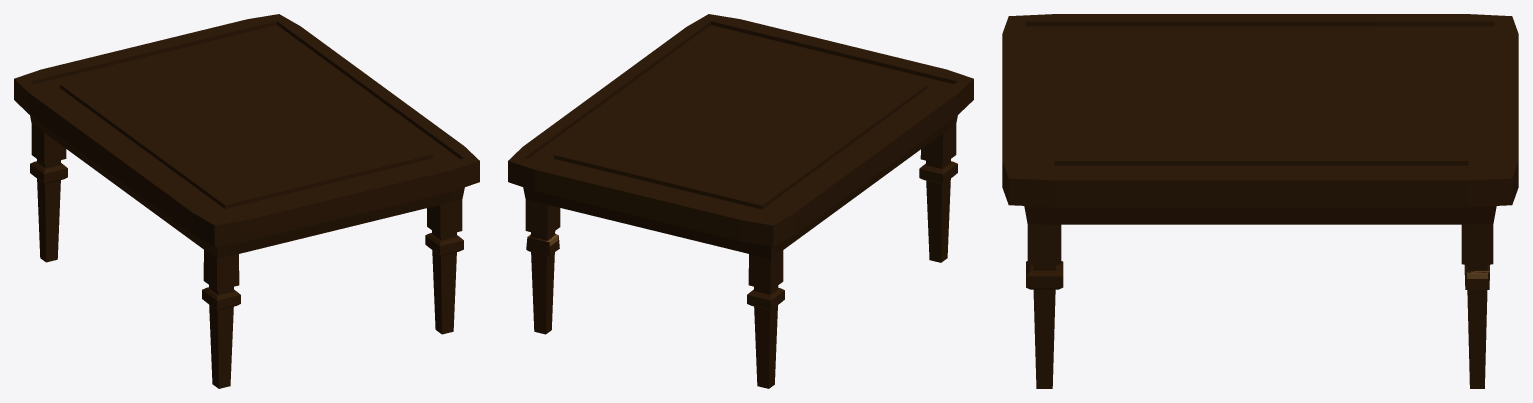
File: Table_(Outlined)_v002.fbx
The picture shows the model from 3 angles, left to right: view 1: azimuth 30°, elevation 25°; view 2: azimuth 150°, elevation 25°; view 3: azimuth 270°, elevation 25°; orthographic projection. The views are drawn at different scales.
Visible parts, largest first — view 1: Cube.005; view 2: Cube.005; view 3: Cube.005.
Boxes of the visible parts, bbox=[...] form: Cube.005: bbox=[14, 14, 479, 388]; Cube.005: bbox=[508, 14, 973, 388]; Cube.005: bbox=[1002, 14, 1518, 388].
Size of the model in its own units: 97.63 by 60.14 by 128.
